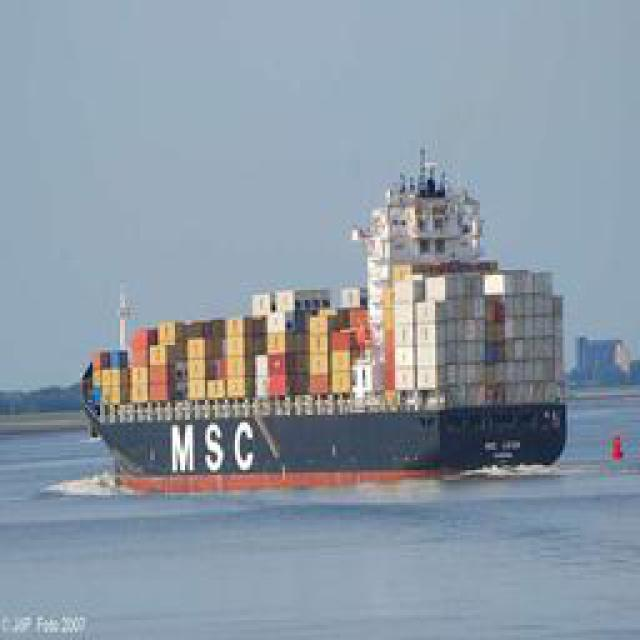Ship: (79, 130, 579, 475)
